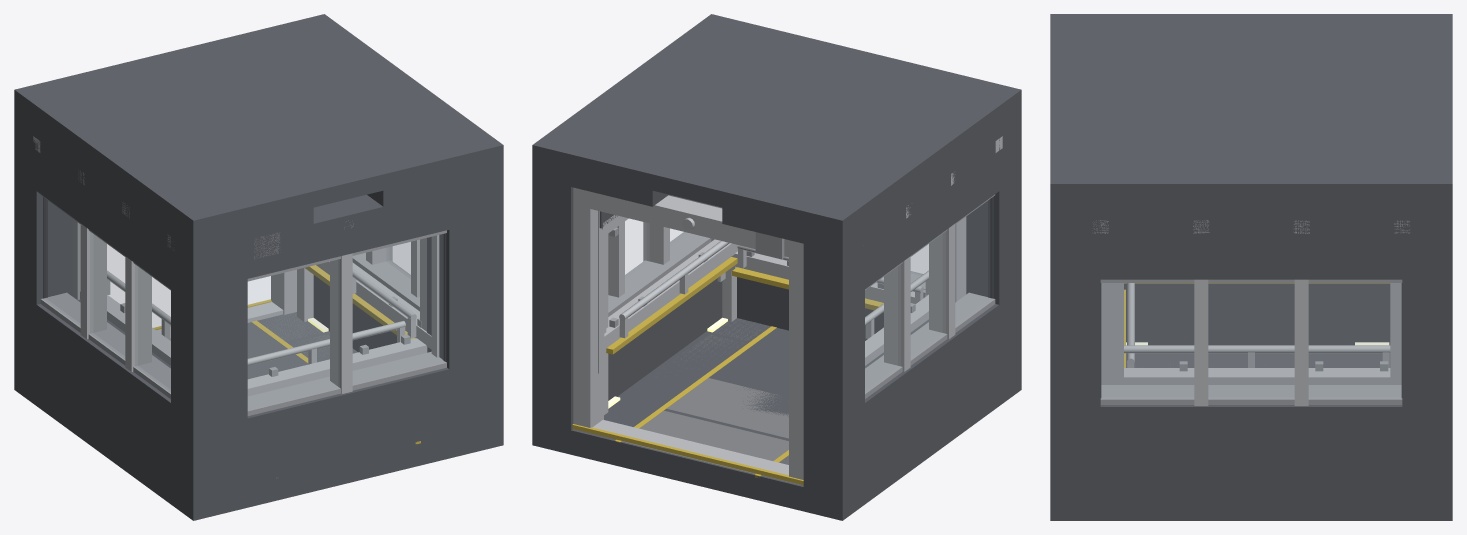
The model's file is corridor_observation.glb.
3 views of the same model, side by side, from view 1: azimuth 30°, elevation 25°; view 2: azimuth 150°, elevation 25°; view 3: azimuth 270°, elevation 25° (orthographic). The views are drawn at different scales.
Visible parts, largest first — view 1: corridor_observation; view 2: corridor_observation; view 3: corridor_observation.
Boxes of the visible parts, bbox=[...] form: corridor_observation: bbox=[14, 14, 503, 520]; corridor_observation: bbox=[532, 14, 1021, 520]; corridor_observation: bbox=[1050, 14, 1452, 520].
Size of the model in its own units: 4 by 3.7 by 4.
